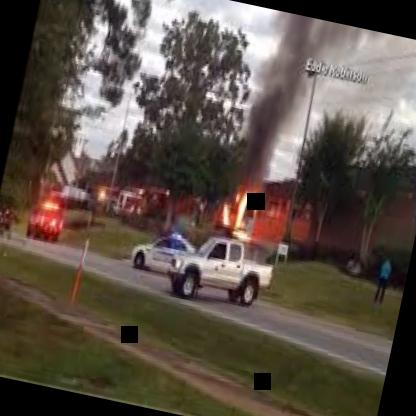fire: (210, 162, 288, 248)
